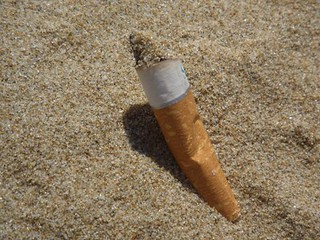cigarette: (126, 32, 244, 223)
